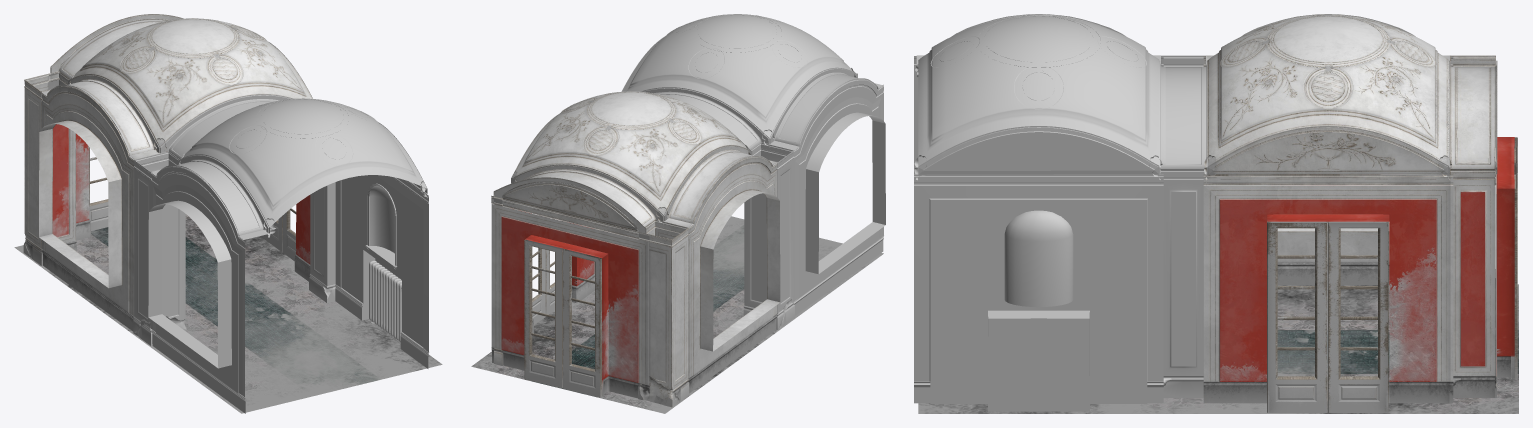
3 views of the same model, side by side, from view 1: azimuth 30°, elevation 25°; view 2: azimuth 150°, elevation 25°; view 3: azimuth 270°, elevation 25° (orthographic). The views are drawn at different scales.
Parts seen in each view (by area): view 1: Floor, room-01.roof.low, room-02.roof.low, room-01.wall.low, room-01.window.low, room-02.window.low, room-01.pillar-01.low, room-02.pillar-01.low, room-01.window-arch.low, room-02.window-arch.low, room-01.pillar-02.low, room-01.transfer-arch.low (+5 smaller); view 2: room-02.backwall.low, room-02.roof.low, room-01.roof.low, room-02.window.low, room-01.window.low, Floor, room-02.doors.low, room-02.pillar-01.low, room-01.pillar-01.low, room-02.transfer-arch.low, room-01.window-arch.low, room-02.window-arch.low (+2 smaller); view 3: room-01.wall.low, room-02.wall.low, room-02.roof.low, room-01.roof.low, room-02.doors.low, Floor, room-02.pillar-02.low, room-01.pillar-02.low, room-01.transfer-arch.low, room-02.transfer-arch.low, room-02.window.low, room-02.backwall.low (+3 smaller).
Boxes of the visible parts, x1=… form: Floor: x1=14, y1=214, x2=442, y2=413; room-01.roof.low: x1=179, y1=98, x2=426, y2=227; room-02.roof.low: x1=69, y1=18, x2=312, y2=146; room-01.wall.low: x1=335, y1=123, x2=429, y2=368; room-01.window.low: x1=148, y1=165, x2=245, y2=413; room-02.window.low: x1=39, y1=85, x2=135, y2=331; room-01.pillar-01.low: x1=133, y1=151, x2=186, y2=345; room-02.pillar-01.low: x1=23, y1=71, x2=76, y2=265; room-01.window-arch.low: x1=151, y1=154, x2=269, y2=239; room-02.window-arch.low: x1=42, y1=74, x2=160, y2=159; room-01.pillar-02.low: x1=309, y1=182, x2=335, y2=303; room-01.transfer-arch.low: x1=159, y1=94, x2=293, y2=159; room-02.backwall.low: x1=491, y1=182, x2=649, y2=398; room-02.roof.low: x1=511, y1=91, x2=749, y2=215; room-01.roof.low: x1=622, y1=14, x2=855, y2=137; room-02.window.low: x1=687, y1=155, x2=780, y2=393; room-01.window.low: x1=793, y1=78, x2=885, y2=315; Floor: x1=471, y1=216, x2=883, y2=413; room-02.doors.low: x1=524, y1=215, x2=602, y2=397; room-02.pillar-01.low: x1=638, y1=219, x2=689, y2=407; room-01.pillar-01.low: x1=743, y1=142, x2=794, y2=329; room-02.transfer-arch.low: x1=493, y1=164, x2=663, y2=233; room-01.window-arch.low: x1=768, y1=67, x2=882, y2=150; room-02.window-arch.low: x1=663, y1=145, x2=777, y2=227; room-01.wall.low: x1=914, y1=126, x2=1163, y2=411; room-02.wall.low: x1=1203, y1=126, x2=1453, y2=403; room-02.roof.low: x1=1207, y1=15, x2=1448, y2=165; room-01.roof.low: x1=918, y1=15, x2=1159, y2=165; room-02.doors.low: x1=1267, y1=137, x2=1517, y2=412; Floor: x1=918, y1=284, x2=1518, y2=413; room-02.pillar-02.low: x1=1450, y1=169, x2=1496, y2=397; room-01.pillar-02.low: x1=1160, y1=169, x2=1206, y2=397; room-01.transfer-arch.low: x1=1159, y1=60, x2=1207, y2=174; room-02.transfer-arch.low: x1=1449, y1=60, x2=1497, y2=174; room-02.window.low: x1=1203, y1=14, x2=1453, y2=285; room-02.backwall.low: x1=1494, y1=77, x2=1514, y2=388.
Size of the model in its own units: 3.54 by 3.86 by 6.57.
